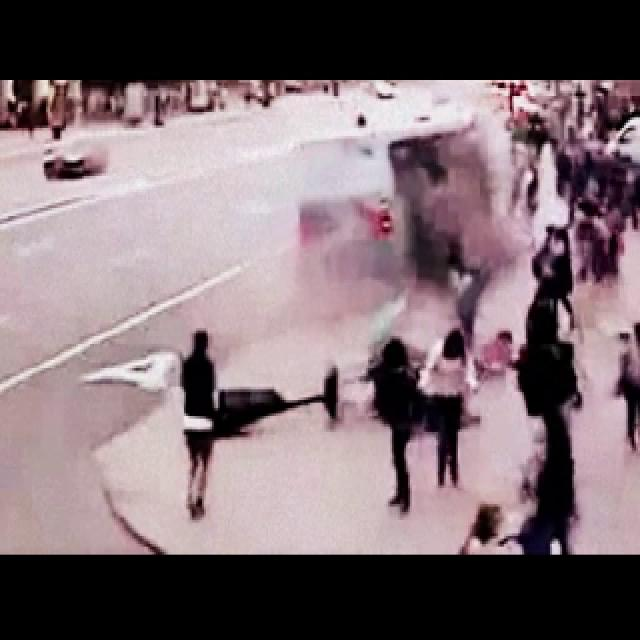road accidents: (226, 95, 577, 495)
